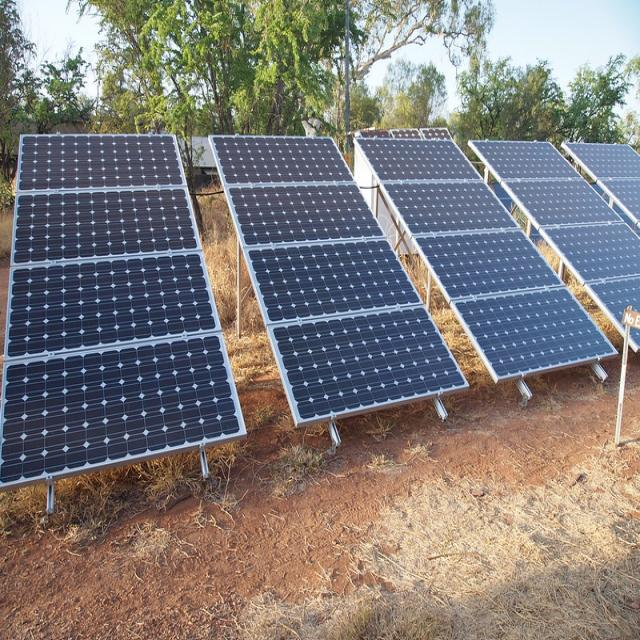no faulty: (5, 137, 245, 472), (211, 134, 474, 430), (365, 139, 624, 381), (474, 145, 637, 322)
